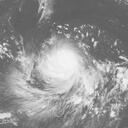cyclone: (38, 42, 85, 93)
